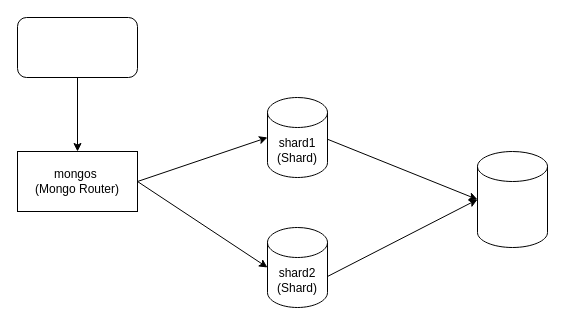
The diagram is 565 pixels wide and 325 high, and some of its shapes have lost their labels. The shapes that lost their labels are listed below. From the top down, each one's box as (x1, y1, x2, y2) in pixels, then its label:
(16, 16, 138, 78): pymongo-api (App)
(476, 150, 548, 248): configSrv (Config Server)
